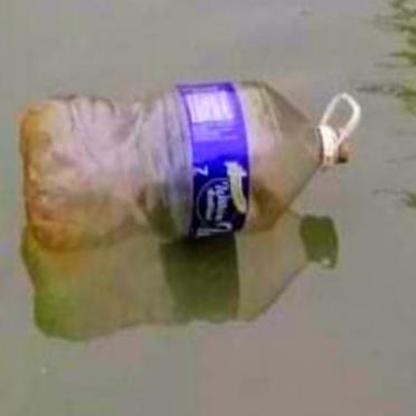plastic bottle: (21, 79, 363, 247)
